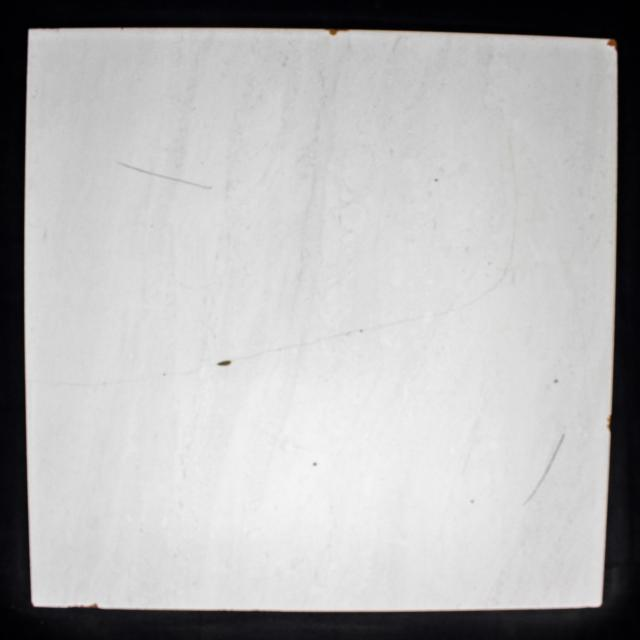edge-chipping: (605, 38, 618, 48), (326, 28, 339, 37), (606, 413, 612, 432), (87, 602, 100, 609)
hole: (216, 359, 232, 368), (311, 461, 318, 467), (554, 378, 559, 384)
line: (239, 324, 369, 363), (519, 430, 569, 512), (114, 158, 218, 194), (384, 300, 479, 328), (64, 376, 136, 390), (502, 232, 520, 270), (483, 274, 505, 296)
